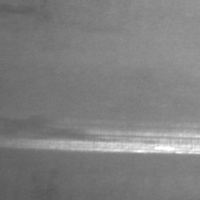scratches: (20, 115, 198, 157)
